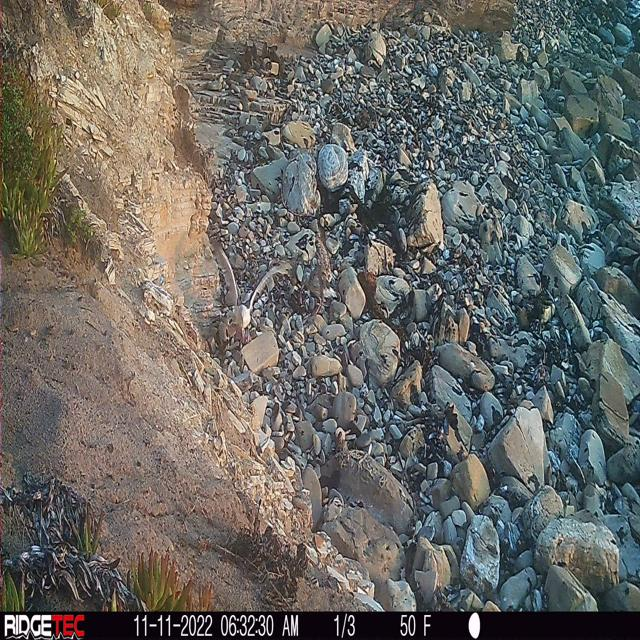bird: (204, 221, 290, 349)
